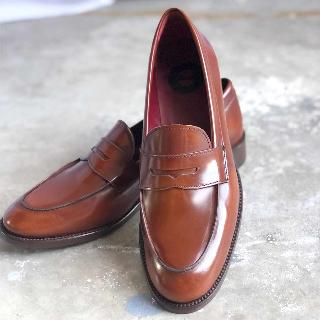loafers: (0, 6, 250, 318)
